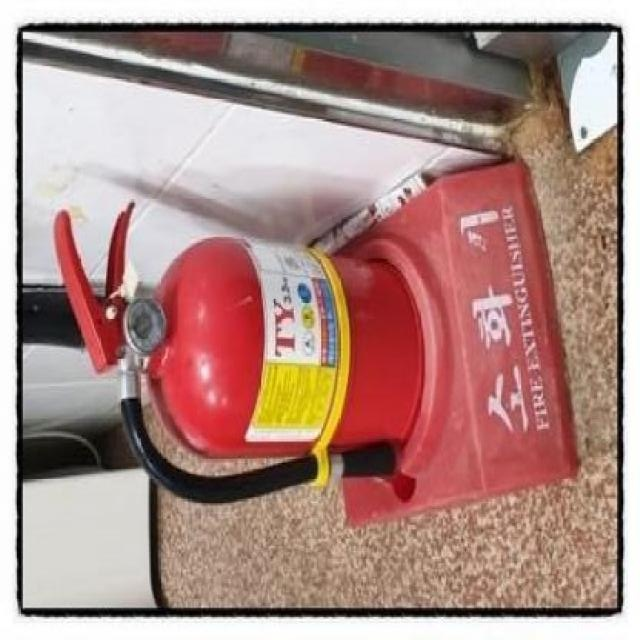fire extinguisher: (53, 202, 427, 506)
